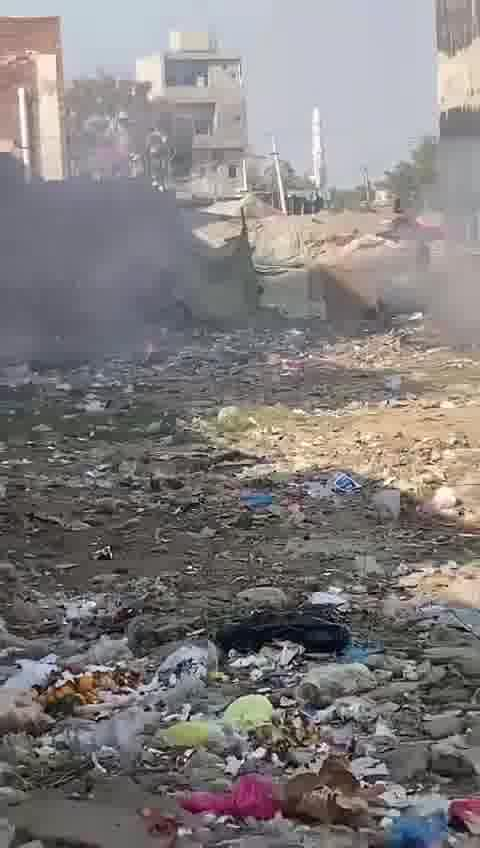garbage: (0, 356, 480, 848)
